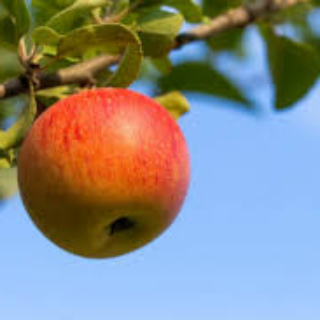tao: (15, 85, 194, 265)
